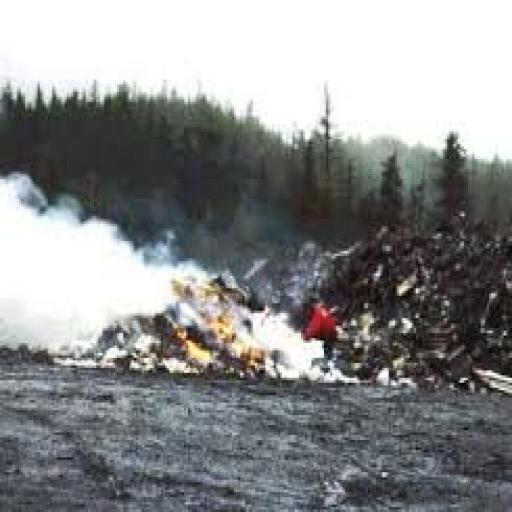smoke: (2, 202, 174, 330)
